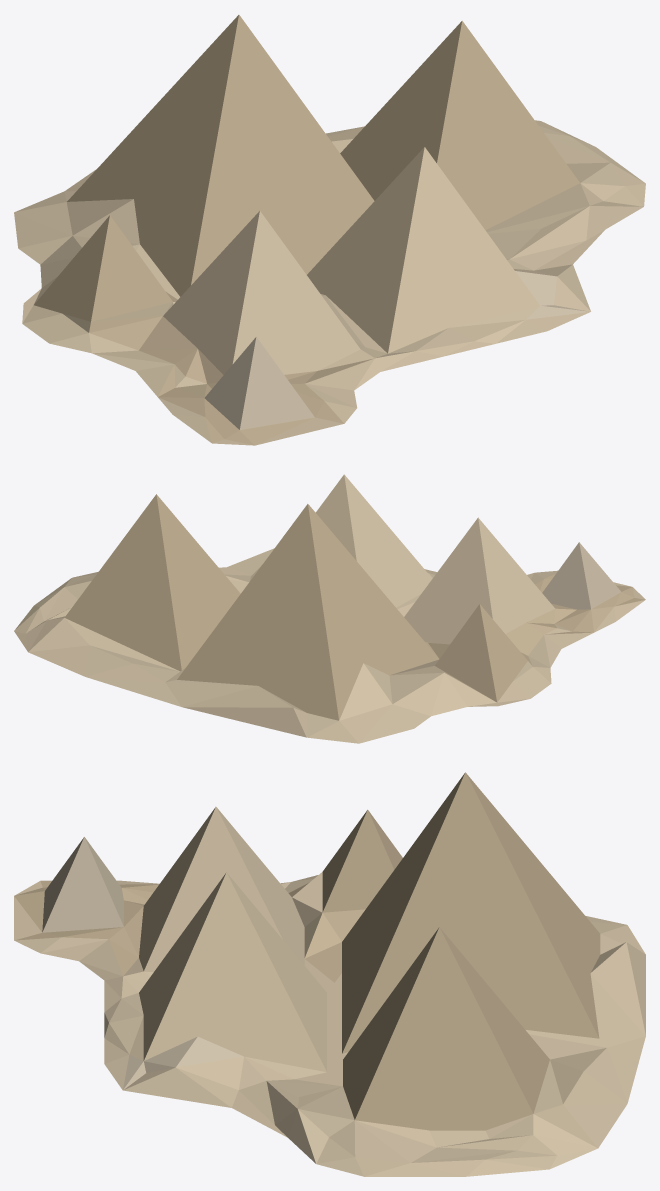
File: Pyramids Flat.dae
3 views of the same model, one above another, from view 1: azimuth 30°, elevation 25°; view 2: azimuth 150°, elevation 25°; view 3: azimuth 270°, elevation 25° (orthographic). The views are drawn at different scales.
Parts seen in each view (by area): view 1: SketchUp (×10); view 2: SketchUp (×8); view 3: SketchUp (×10).
Boxes of the visible parts, box(x1,y1,x2,y2) form: SketchUp (×10): box(14, 15, 645, 445); SketchUp (×8): box(14, 474, 645, 743); SketchUp (×10): box(14, 772, 645, 1176).
Bounding box in the file's own units: 40.14 × 35.04 × 13.82.
